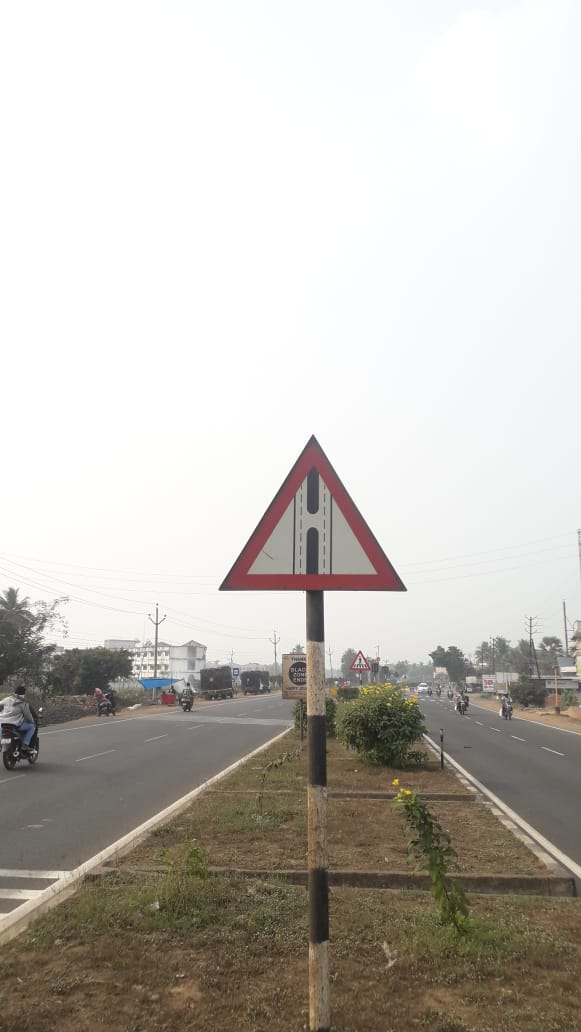highway go straight: (207, 422, 426, 632)
